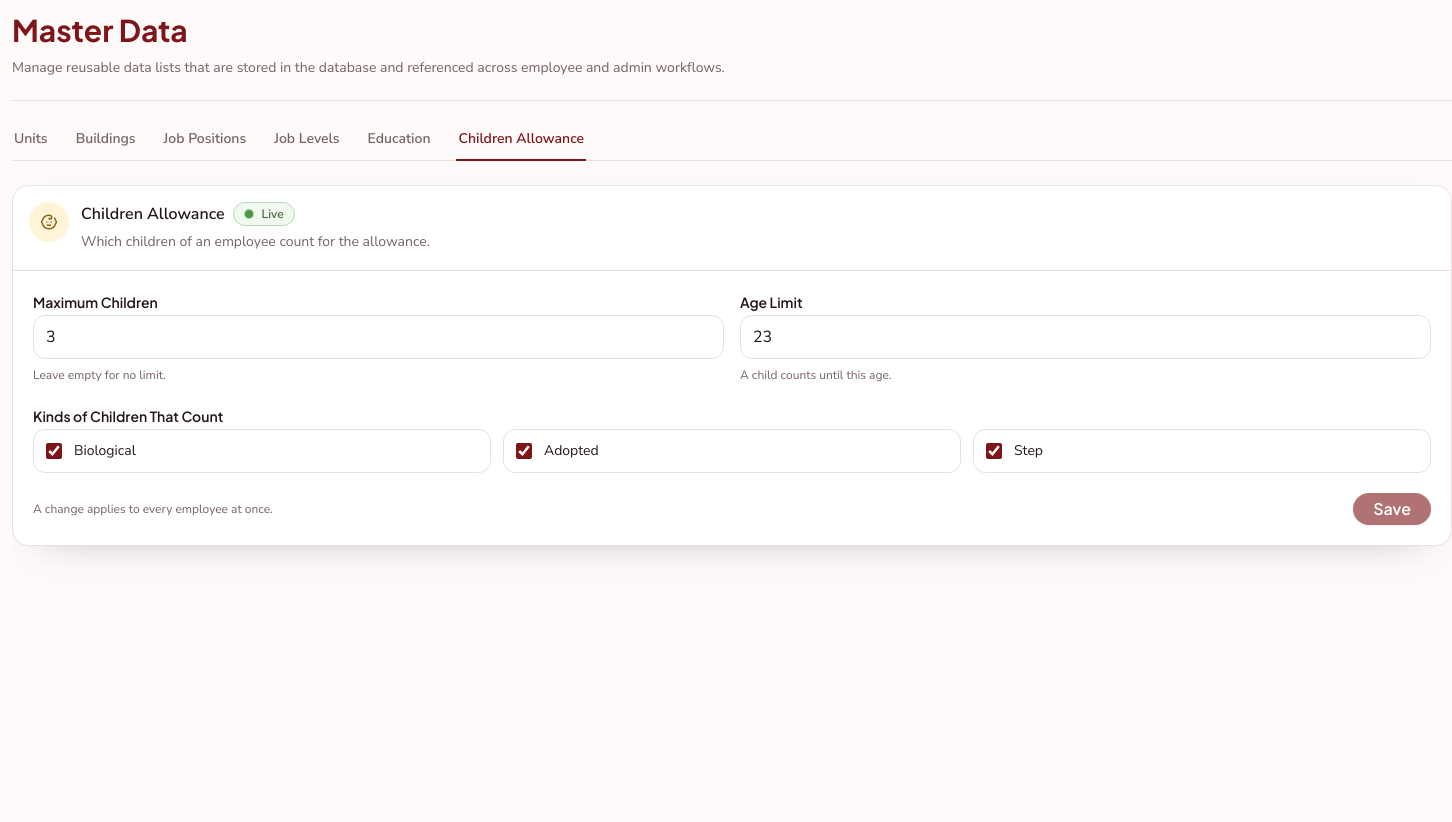
Scenario: MasterData › Employment tab › refuses a rule with no kind of child, and shows it read only to anyone but a Super Admin
Expected: the button "Save" is shown, [1353,493,1431,525]
Click the checkbox labelled "Biological": (54, 451) [46,443,62,459]
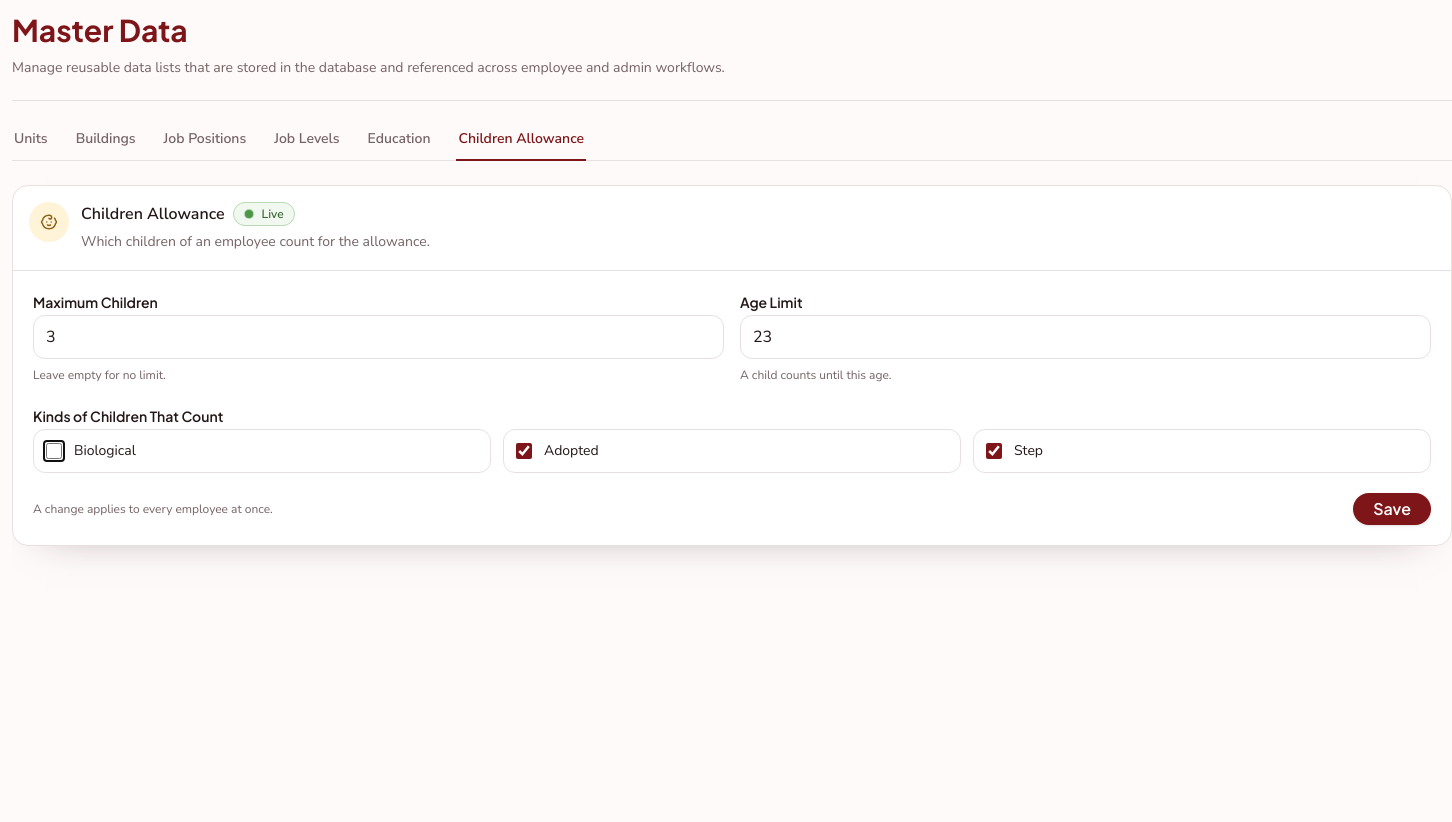
Click the checkbox labelled "Adopted": (524, 451) [516,443,532,459]
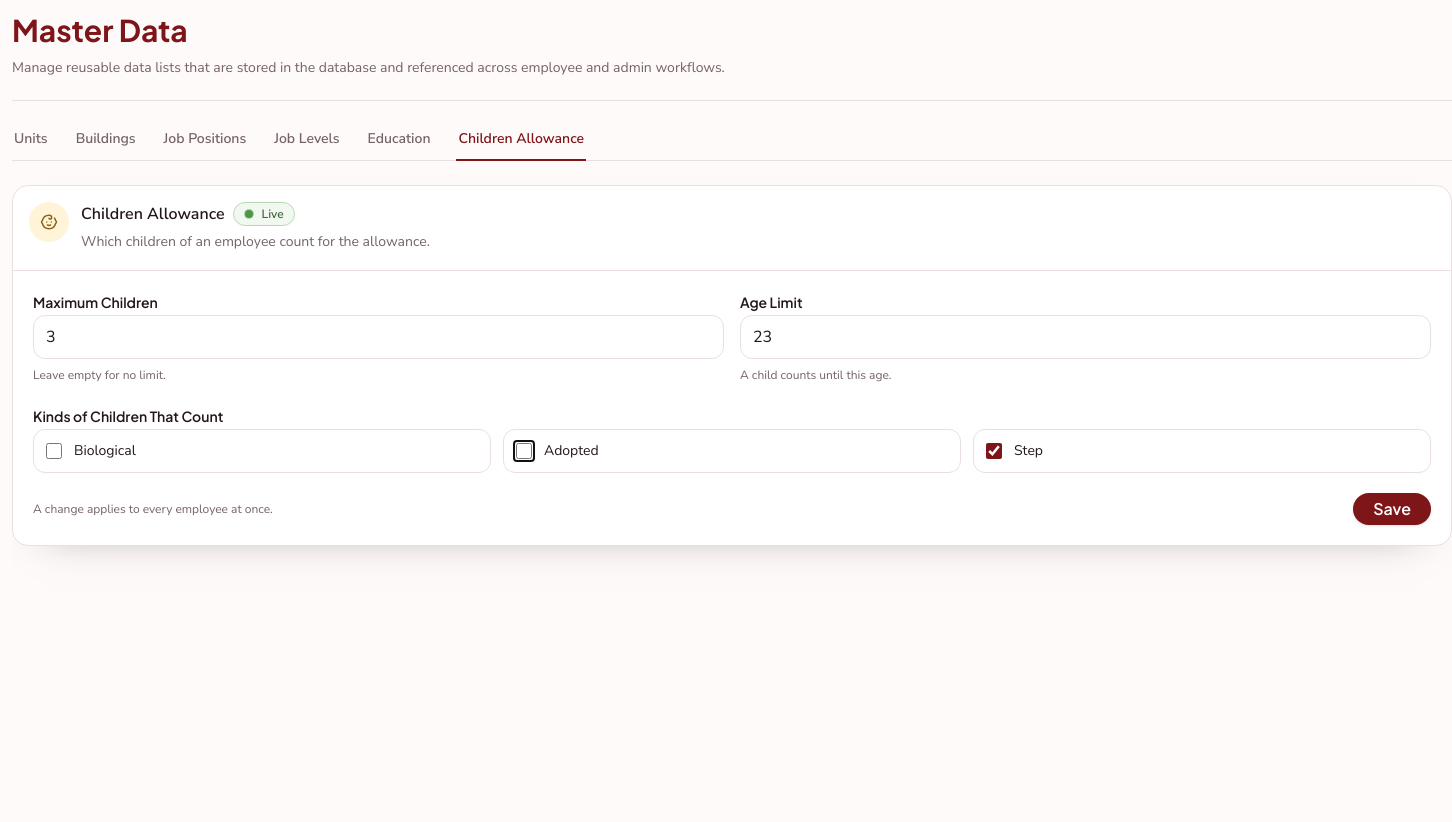
Click the checkbox labelled "Step": (994, 451) [986,443,1002,459]
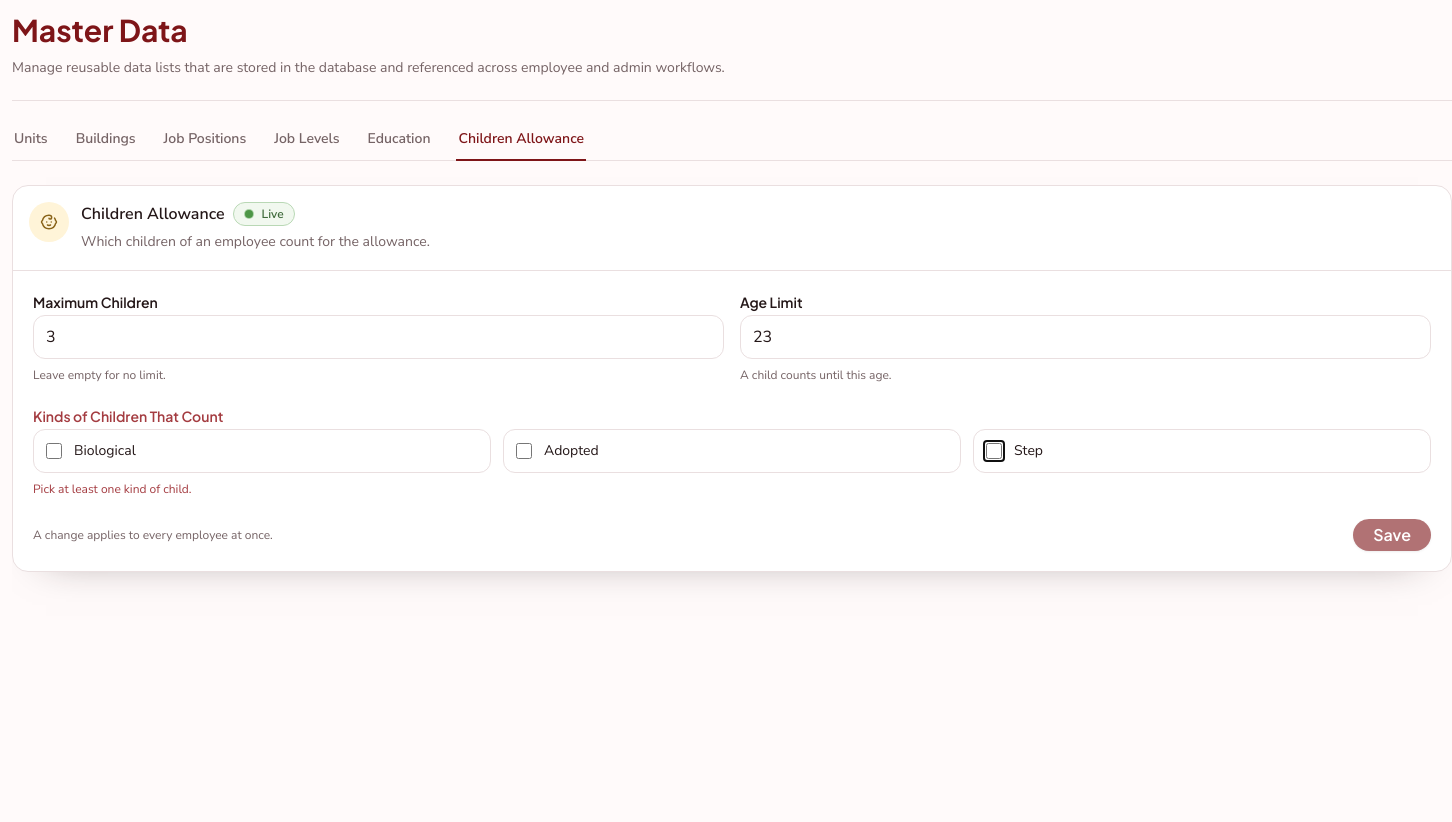
Expected: the text "Pick at least one kind of child." is shown, [33,481,192,497]
Expected: the button "Save" is disabled, [1353,519,1431,551]
